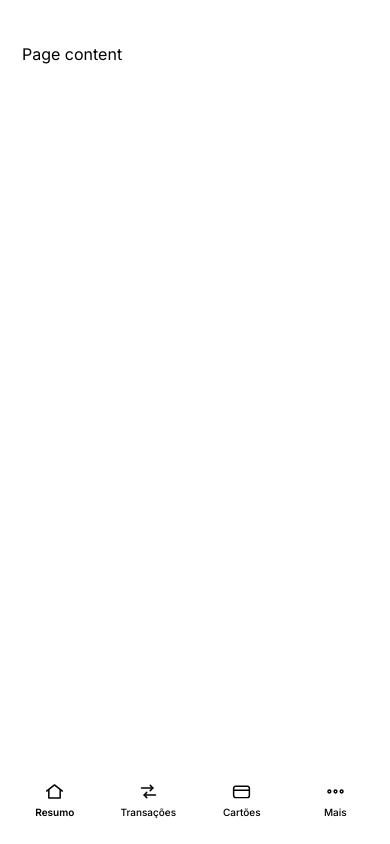
Test: mobile Mais menu lifecycle › toggles and closes from the backdrop
What coordinates should you click on to do the following:
click the button "Mais"
I would click on:
 (335, 800)
Its box is [305, 777, 365, 822].
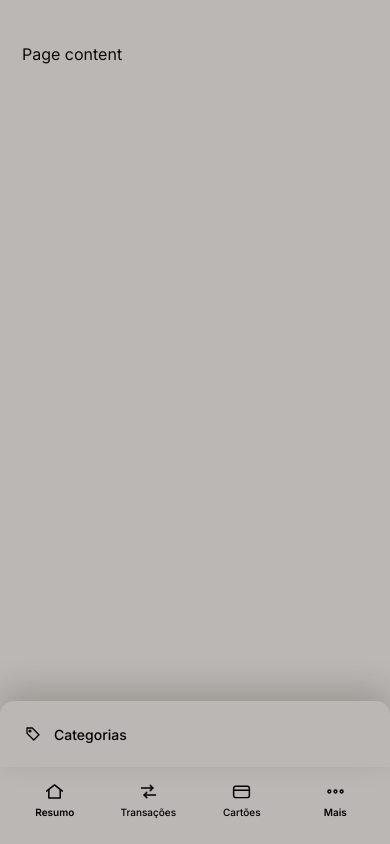
Expected: the button "Mais" is expanded
What coordinates should you click on to do the following:
click the button "Mais"
I would click on:
 (335, 800)
Its box is [305, 777, 365, 822].
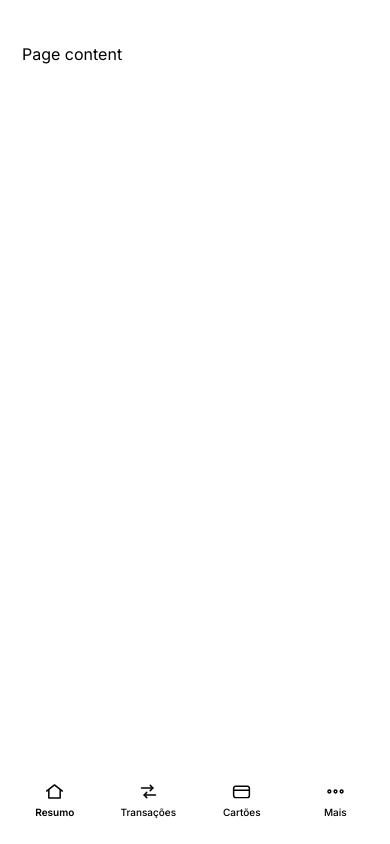
Expected: the button "Mais" is collapsed
What coordinates should you click on to do the following:
click the button "Mais"
I would click on:
 (335, 800)
Its box is [305, 777, 365, 822].
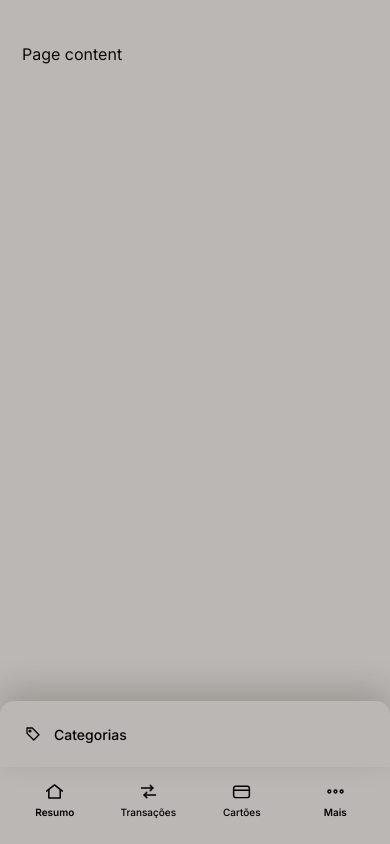
What coordinates should you click on to do the following:
click the button with class "ff-morenav__backdrop"
I would click on:
 (195, 422)
Its box is [0, 0, 389, 843].
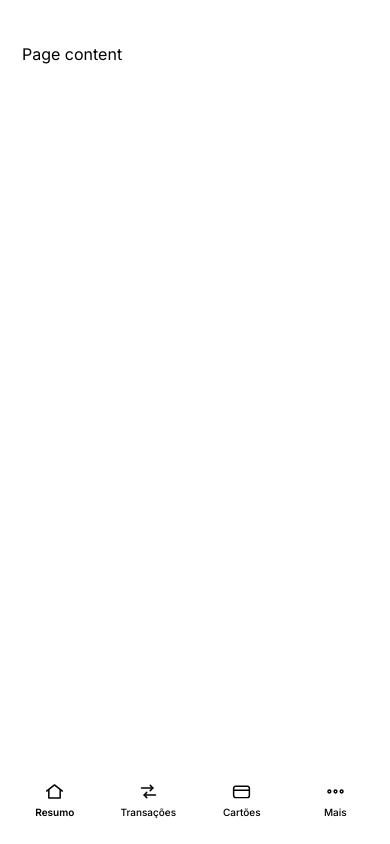
Expected: the button "Mais" is collapsed, [305, 777, 365, 822]
